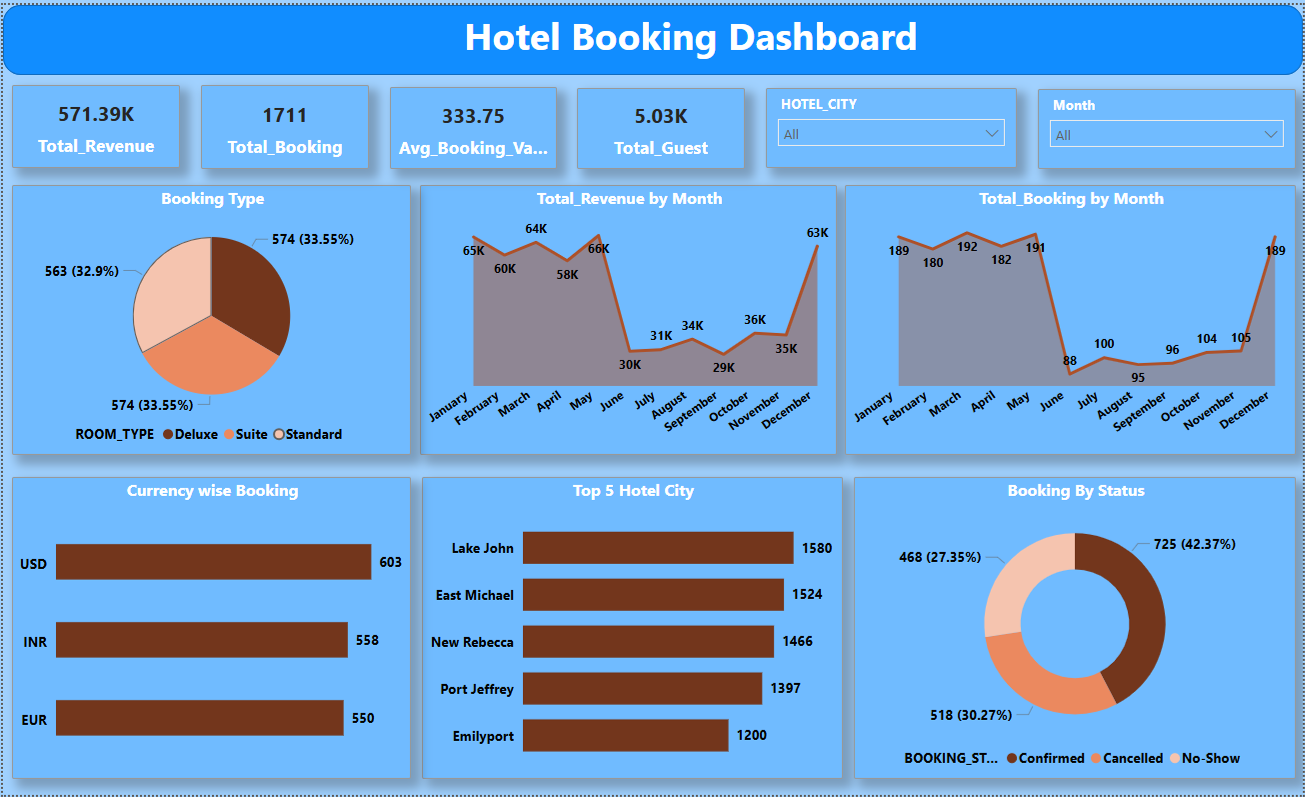

The dashboard page shown, as its layout file describes it:
{"tool":"powerbi","page":{"name":"Page 1","canvas":[1300,790],"ordinal":0},"visuals":[{"type":"areaChart","fields":{"Y":["GOLD_HOTEL_BOOKING.Total_Revenue"],"Category":["GOLD_HOTEL_BOOKING.CHECK_IN_DATE.Variation.Date Hierarchy.Month"]},"box":[417,180,417,270],"z":1000},{"type":"areaChart","fields":{"Y":["CountNonNull(GOLD_HOTEL_BOOKING.BOOKING_ID)"],"Category":["GOLD_HOTEL_BOOKING.CHECK_IN_DATE.Variation.Date Hierarchy.Month"]},"box":[842,180,451,270],"z":2000},{"type":"barChart","title":"Top 5 Hotel City","fields":{"Category":["GOLD_HOTEL_BOOKING.HOTEL_CITY"],"Y":["GOLD_HOTEL_BOOKING.Total_Revenue"]},"box":[419,472,421,302],"z":3000},{"type":"pieChart","title":"Booking  Type","fields":{"Category":["GOLD_HOTEL_BOOKING.ROOM_TYPE"],"Y":["CountNonNull(GOLD_HOTEL_BOOKING.BOOKING_ID)"]},"box":[9,180,399,270],"z":4000},{"type":"donutChart","title":"Booking By Status","fields":{"Category":["GOLD_HOTEL_BOOKING.BOOKING_STATUS"],"Y":["CountNonNull(GOLD_HOTEL_BOOKING.BOOKING_ID)"]},"box":[851,472,442,302],"z":5000},{"type":"card","fields":{"Values":["GOLD_HOTEL_BOOKING.Total_Revenue"]},"box":[9,80,168,83],"z":7000},{"type":"card","fields":{"Values":["CountNonNull(GOLD_HOTEL_BOOKING.BOOKING_ID)"]},"box":[197.8,80,168,84],"z":11000},{"type":"card","fields":{"Values":["Avg(GOLD_HOTEL_BOOKING.TOTAL_AMOUNT)"]},"box":[386.6,82,167,82],"z":12000},{"type":"card","fields":{"Values":["Sum(GOLD_HOTEL_BOOKING.NUM_GUESTS)"]},"box":[574.4,83,168,81],"z":13000},{"type":"barChart","title":"Currency wise Booking","fields":{"Category":["GOLD_HOTEL_BOOKING.CURRENCY"],"Y":["CountNonNull(GOLD_HOTEL_BOOKING.BOOKING_ID)"]},"box":[9,472,399,302],"z":14000},{"type":"shape","box":[0,0,1300,70],"z":15000},{"type":"slicer","fields":{"Values":["GOLD_HOTEL_BOOKING.HOTEL_CITY"]},"box":[763.2,83,251,80],"z":15001},{"type":"slicer","fields":{"Values":["GOLD_HOTEL_BOOKING.CHECK_IN_DATE.Variation.Date Hierarchy.Month"]},"box":[1035,84,258,80],"z":15002},{"type":"textbox","box":[161,0,1054,70],"z":15003}]}

Visuals, with their boxes in screenshot pixels (x1, y1, x2, y2), scaled from the page's 1300x790 canvas onto the 1305x797 screenshot:
areaChart - GOLD_HOTEL_BOOKING.Total_Revenue x GOLD_HOTEL_BOOKING.CHECK_IN_DATE.Variation.Date Hierarchy.Month: Rect(419, 182, 837, 454)
areaChart - CountNonNull(GOLD_HOTEL_BOOKING.BOOKING_ID) x GOLD_HOTEL_BOOKING.CHECK_IN_DATE.Variation.Date Hierarchy.Month: Rect(845, 182, 1298, 454)
"Top 5 Hotel City" barChart: Rect(421, 476, 843, 781)
"Booking  Type" pieChart: Rect(9, 182, 410, 454)
"Booking By Status" donutChart: Rect(854, 476, 1298, 781)
card - GOLD_HOTEL_BOOKING.Total_Revenue: Rect(9, 81, 178, 164)
card - CountNonNull(GOLD_HOTEL_BOOKING.BOOKING_ID): Rect(199, 81, 367, 165)
card - Avg(GOLD_HOTEL_BOOKING.TOTAL_AMOUNT): Rect(388, 83, 556, 165)
card - Sum(GOLD_HOTEL_BOOKING.NUM_GUESTS): Rect(577, 84, 745, 165)
"Currency wise Booking" barChart: Rect(9, 476, 410, 781)
shape: Rect(0, 0, 1304, 71)
slicer - GOLD_HOTEL_BOOKING.HOTEL_CITY: Rect(766, 84, 1018, 164)
slicer - GOLD_HOTEL_BOOKING.CHECK_IN_DATE.Variation.Date Hierarchy.Month: Rect(1039, 85, 1298, 165)
textbox: Rect(162, 0, 1220, 71)
